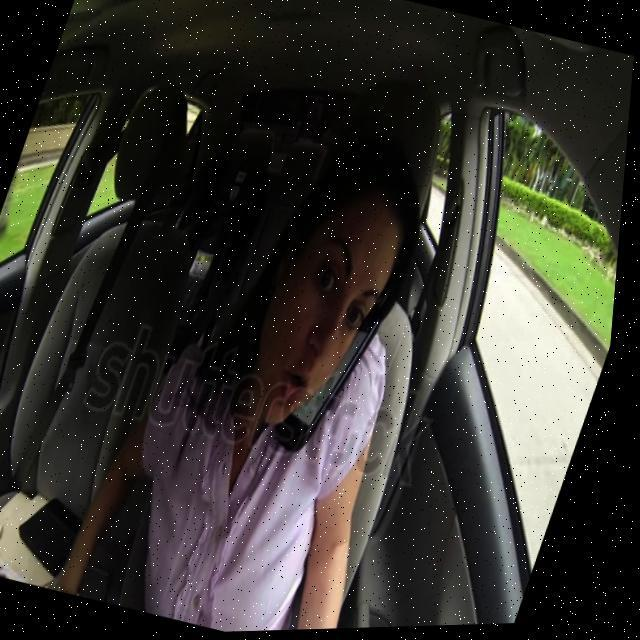PhoneCall: (282, 299, 394, 465)
